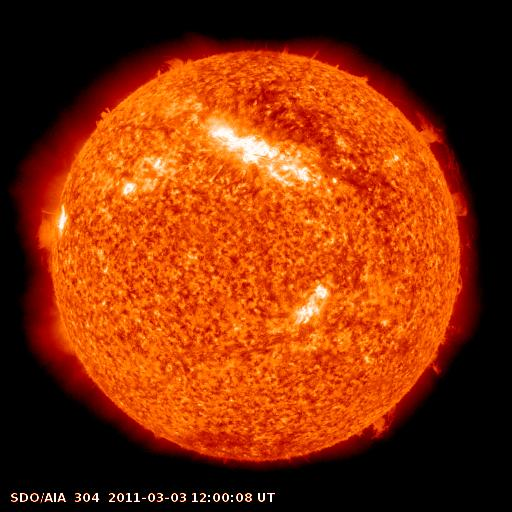prominence: (406, 102, 480, 222), (417, 318, 473, 384), (22, 212, 75, 277), (350, 396, 404, 447), (143, 47, 203, 83), (86, 100, 119, 135)
